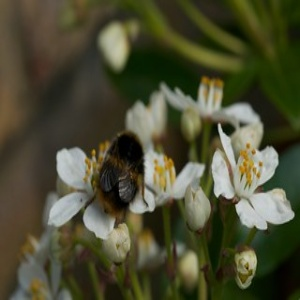bee: (95, 130, 153, 227)
